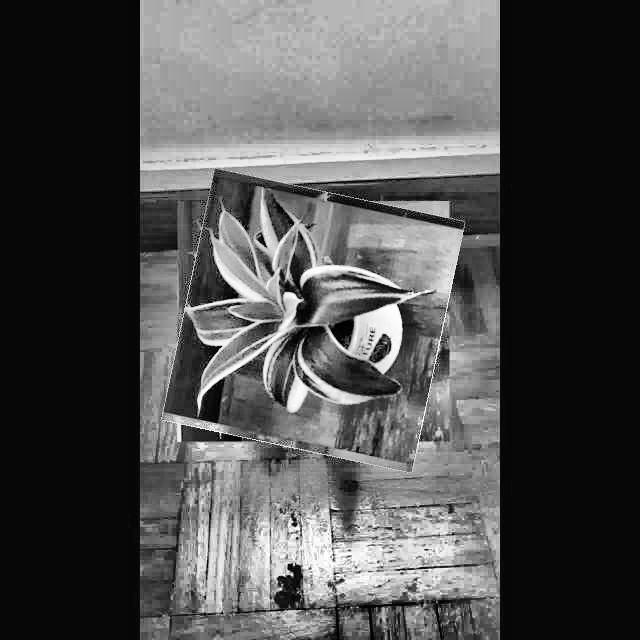plants: (174, 180, 454, 462)
